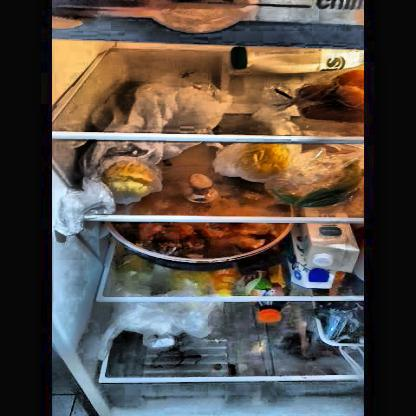broccoli: (318, 308, 362, 345)
carrot: (294, 74, 365, 119)
green_chillies: (280, 163, 364, 206)
lemon: (102, 157, 154, 199), (239, 140, 289, 180)
milk: (232, 43, 361, 72), (298, 224, 356, 287)
